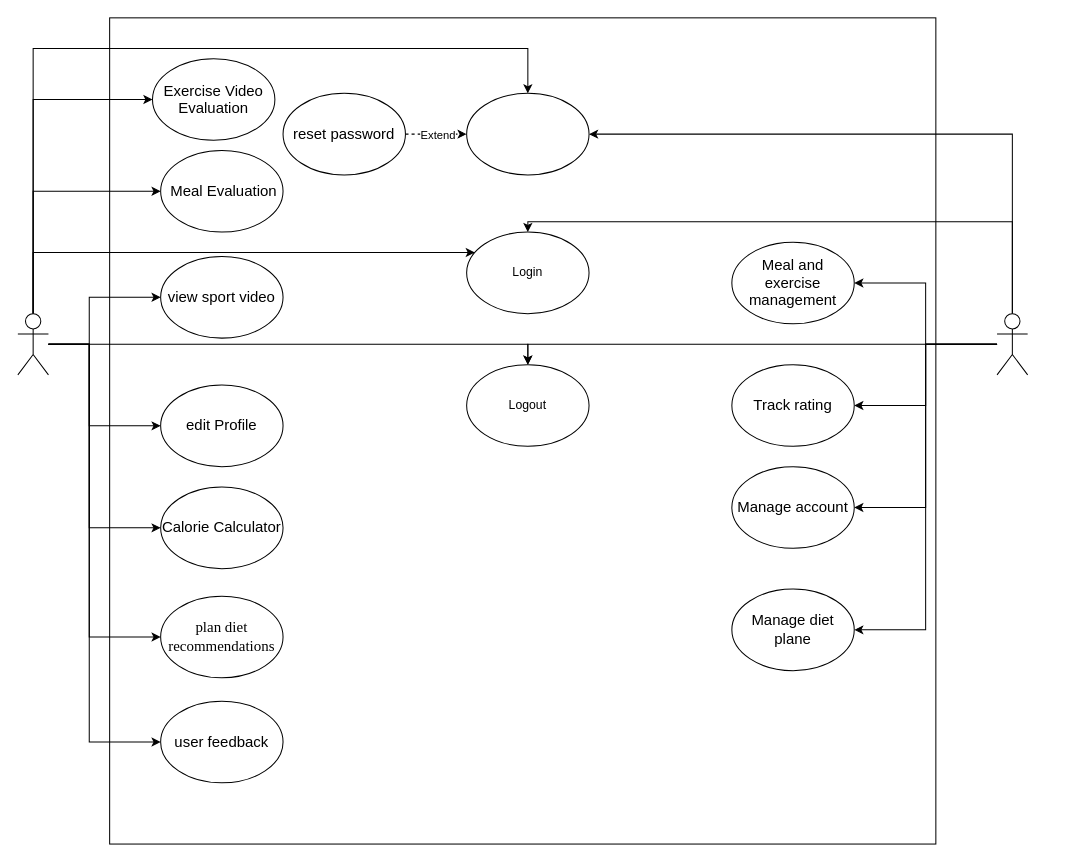
This 1087x862 diagram has some shape labels left out. Here are the shapes that lost their labels. From the top down, the centre of each, then its label:
At [527,133]: "Register".
At [32,344]: "User".
At [1012,344]: "System administrator".
